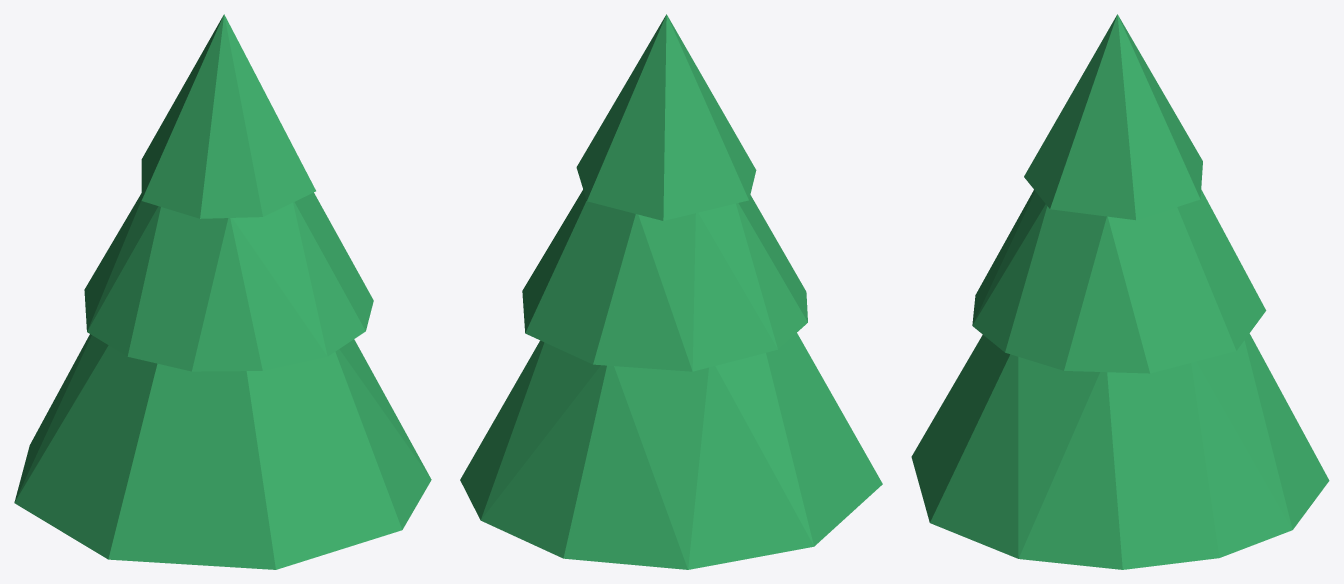
The model's file is bush1.fbx.
3 renders of one model, left to right at view 1: azimuth 30°, elevation 25°; view 2: azimuth 150°, elevation 25°; view 3: azimuth 270°, elevation 25°, orthographic.
Visible parts, largest first — view 1: bush1; view 2: bush1; view 3: bush1.
Part boxes in pixels (x1=…): bush1: x1=14, y1=14, x2=431, y2=569; bush1: x1=460, y1=14, x2=882, y2=569; bush1: x1=911, y1=14, x2=1329, y2=569.
Size of the model in its own units: 90.17 by 112 by 90.85.
